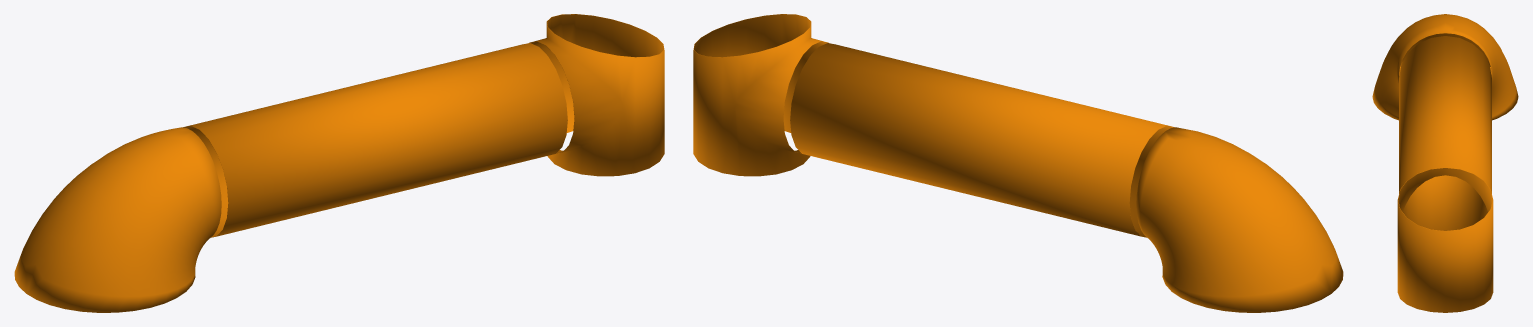
3 views of the same model, side by side, from view 1: azimuth 30°, elevation 25°; view 2: azimuth 150°, elevation 25°; view 3: azimuth 270°, elevation 25° (orthographic). The views are drawn at different scales.
Bounding box in the file's own units: 0.4735 × 0.0942 × 0.118.
